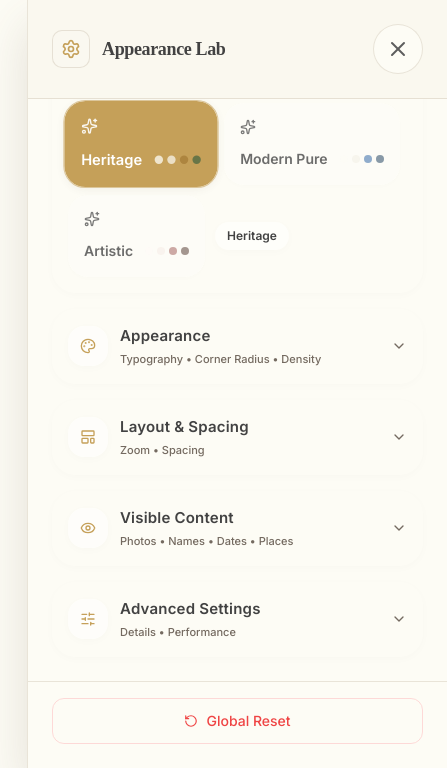
Test: SettingsDrawer › reveals advanced branch controls from the advanced section
(page scrolled)
Click the button "Advanced Settings Details • Performance" at (238, 619), box x1=52 y1=582 x2=423 y2=657
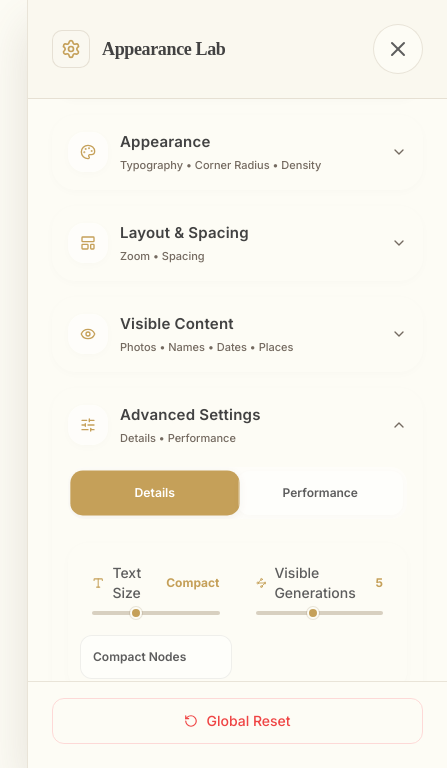
Click the button "Performance" at (320, 493), box x1=238 y1=471 x2=403 y2=515
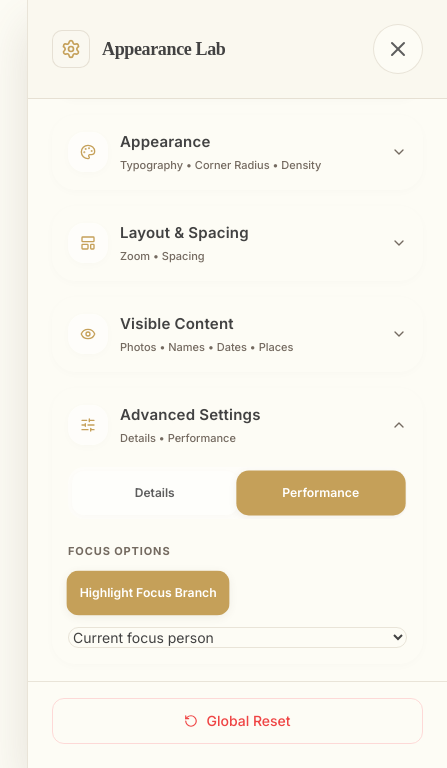
Expected: the text "Focus Options" is shown, x1=68 y1=544 x2=170 y2=558
Expected: the text "Highlight Focus Branch" is shown, x1=80 y1=587 x2=217 y2=599
